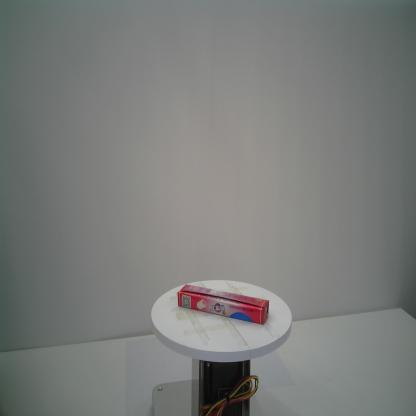Candy: (178, 283, 270, 326)
